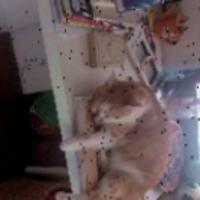asleep: (54, 64, 174, 200)
